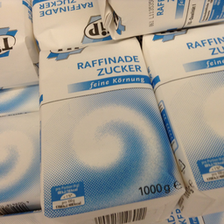tomato_sauce: (38, 38, 185, 224), (141, 24, 224, 211)
